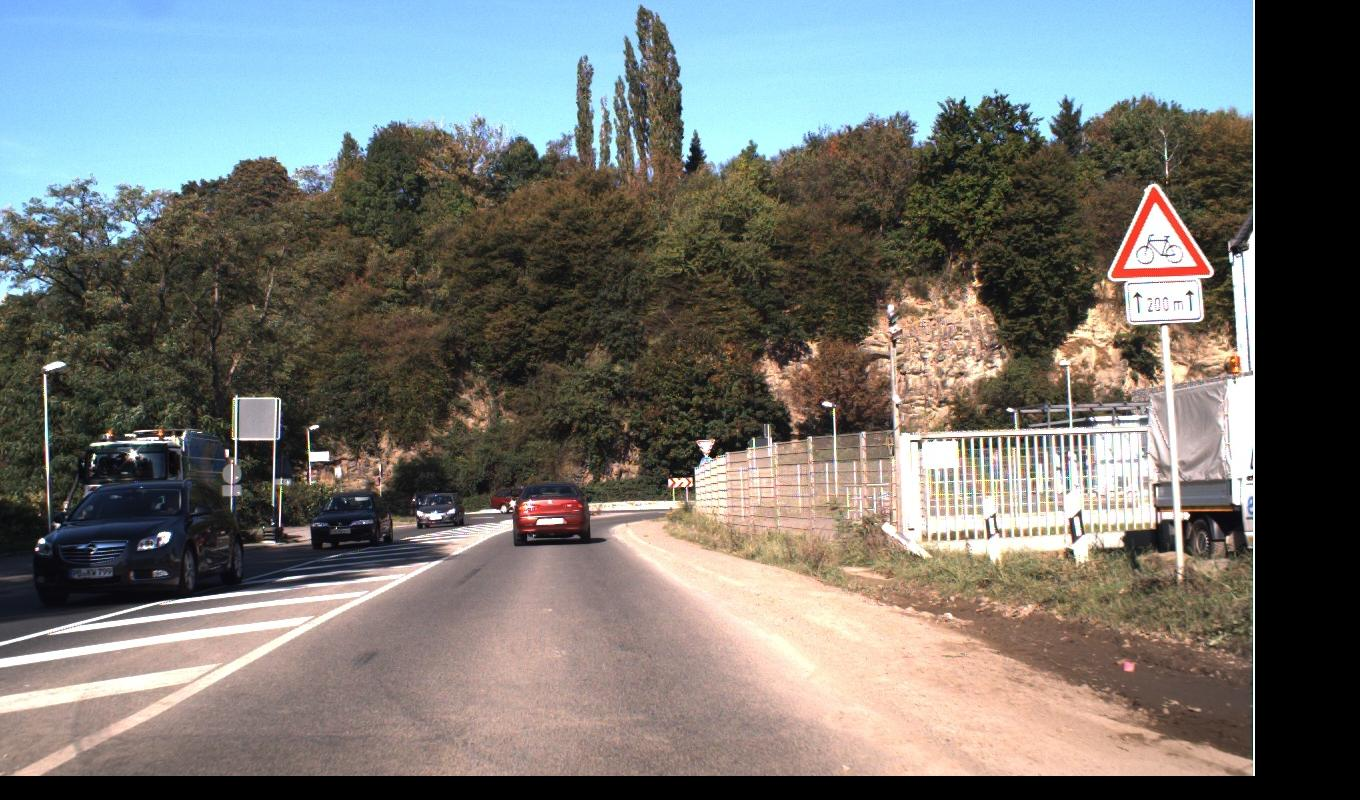cycles crossing: (695, 182, 1214, 459)
